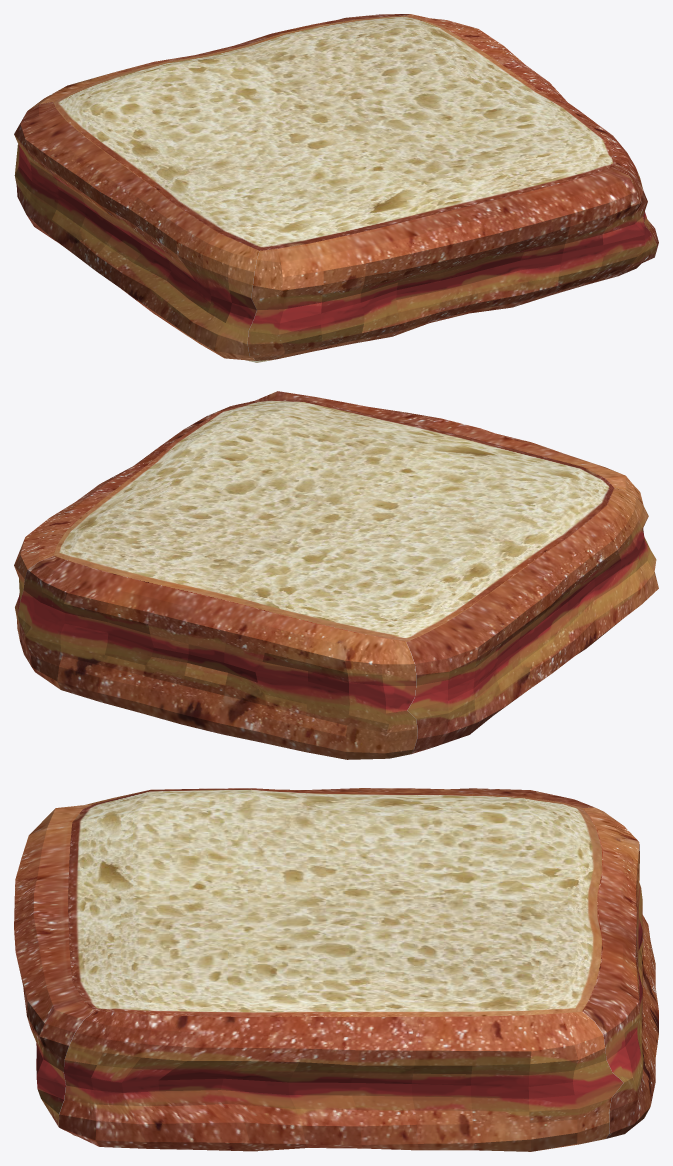
File: Sandwich with subdivisions.fbx
3 views of the same model, one above another, from view 1: azimuth 30°, elevation 25°; view 2: azimuth 150°, elevation 25°; view 3: azimuth 270°, elevation 25° (orthographic). The views are drawn at different scales.
Visible parts, largest first — view 1: Cube; view 2: Cube; view 3: Cube.
Part boxes in pixels (x1,y1,x2,y2): Cube: (14,14,658,362); Cube: (14,391,658,759); Cube: (14,788,658,1151).
Size of the model in its own units: 204 by 52.35 by 211.
1 material, 1 textured.
